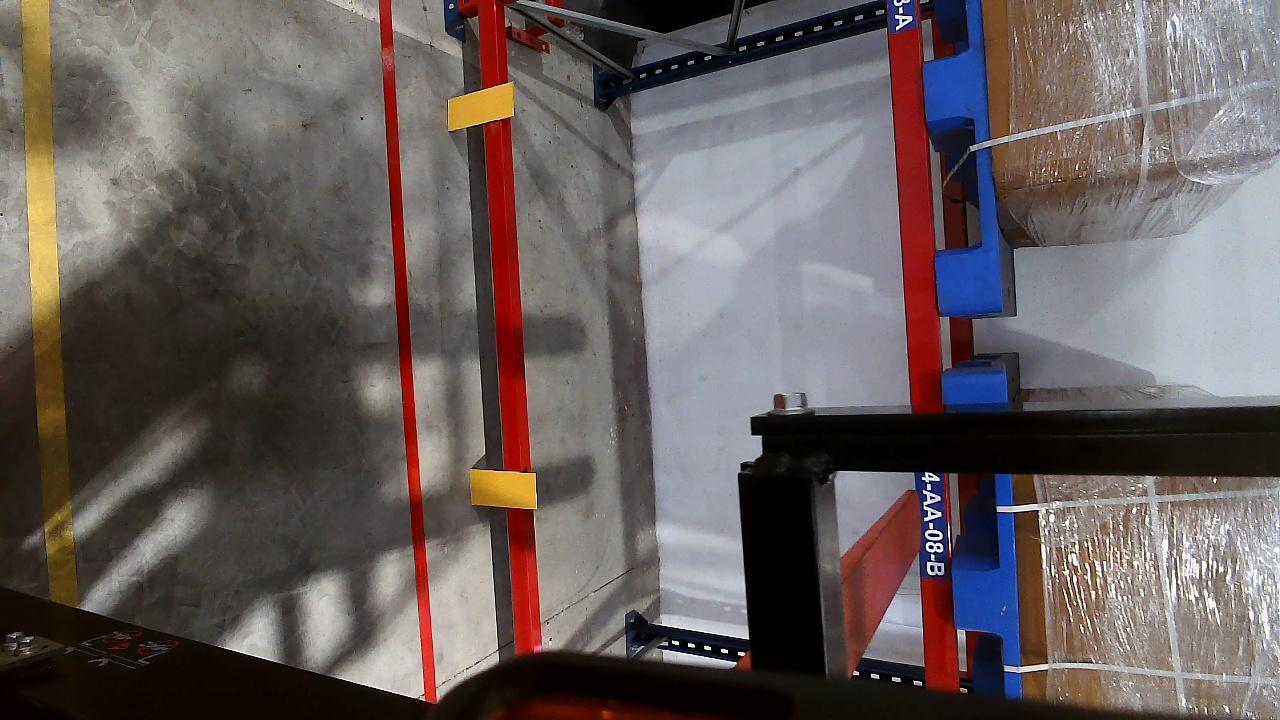h_rack: (882, 0, 948, 684), (476, 13, 541, 653)
orange_strip: (445, 83, 515, 130), (470, 469, 536, 509)
red_line: (381, 5, 431, 662)
small_pallet: (916, 0, 1007, 309), (943, 477, 1029, 695)
yellow_line: (17, 0, 75, 605)
